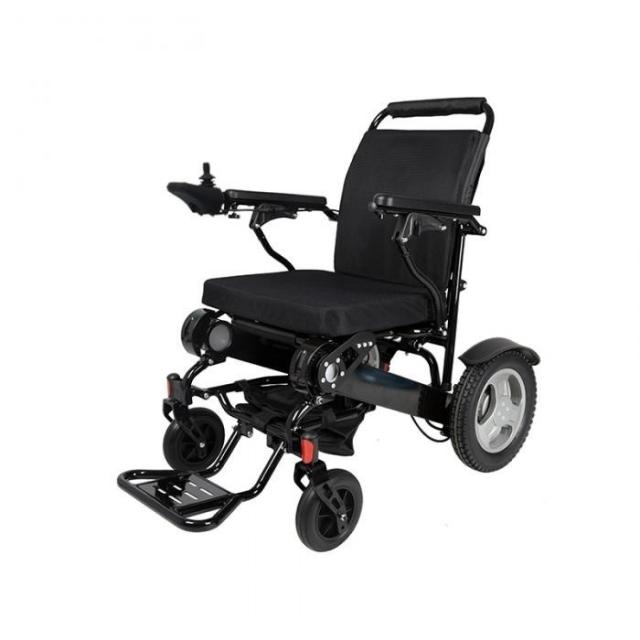wheelchair: (105, 71, 551, 565)
